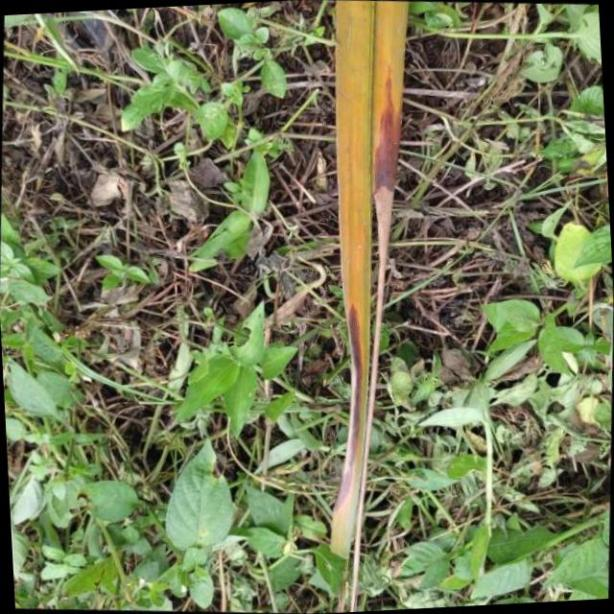Megnesium: (328, 0, 406, 614)
